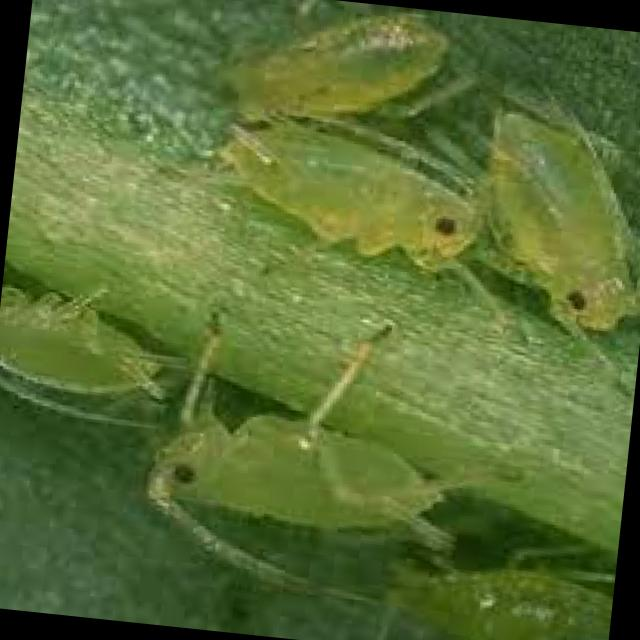Aphids: (114, 334, 496, 602), (167, 100, 506, 294), (459, 45, 640, 382)
